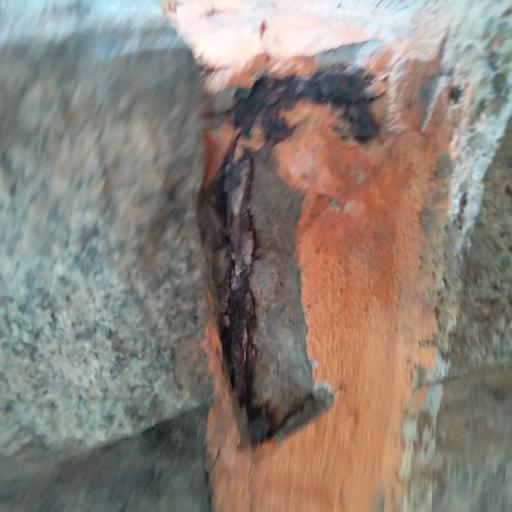spalling: (176, 103, 372, 446)
